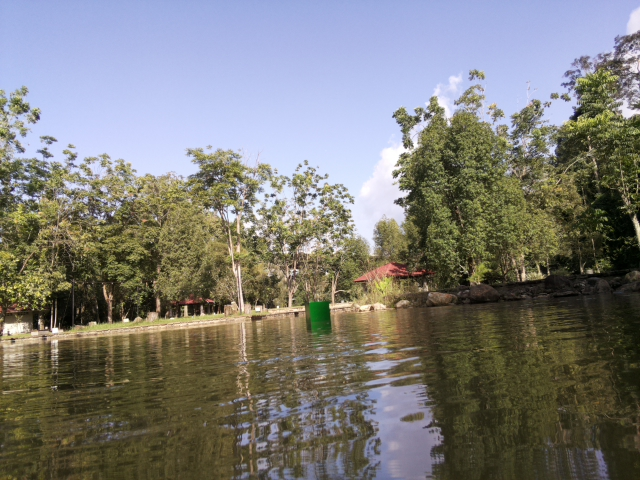obstacle: (304, 300, 332, 331)
